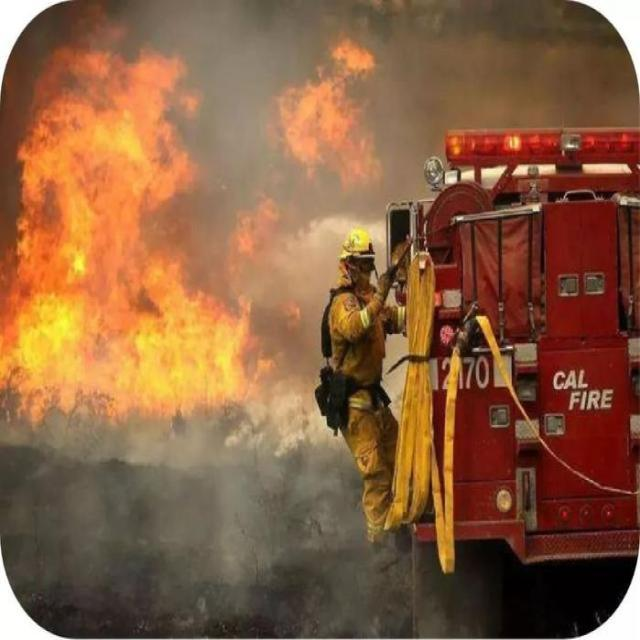Fire: (0, 41, 245, 408), (272, 42, 376, 184)
